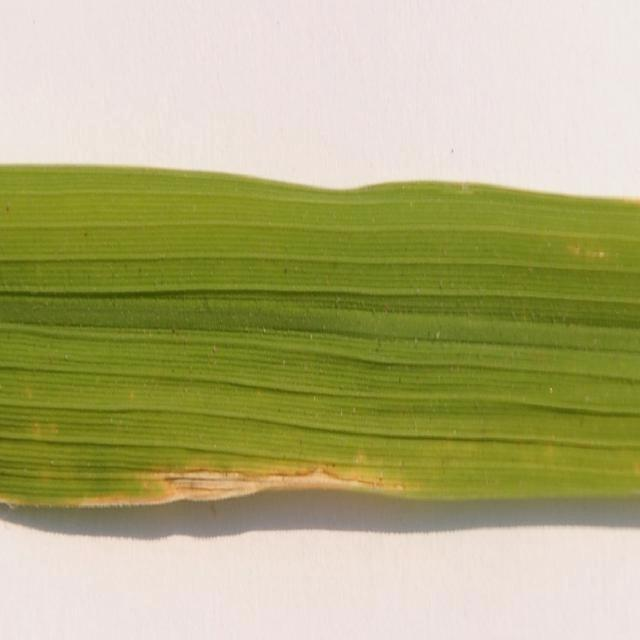bacterial_leaf_blight: (72, 468, 375, 506)
